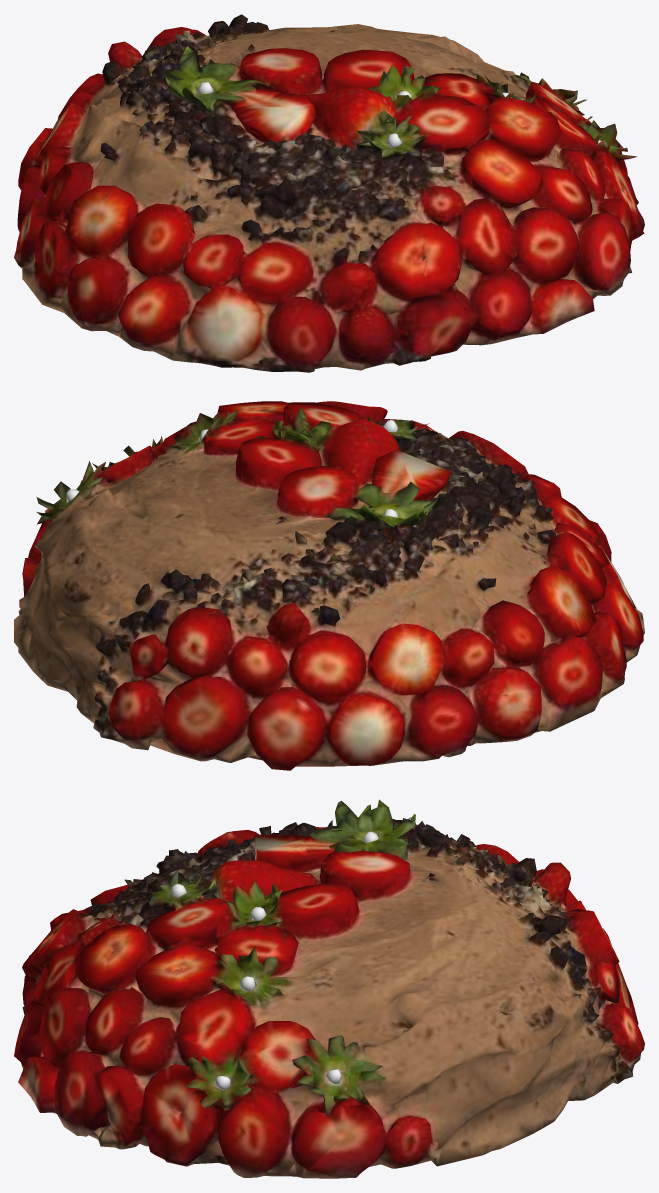
File: cake_display.glb
3 renders of one model, top to bottom at view 1: azimuth 30°, elevation 25°; view 2: azimuth 150°, elevation 25°; view 3: azimuth 270°, elevation 25°, orthographic. The views are drawn at different scales.
Parts seen in each view (by area): view 1: strawberry_chocolate_cake; view 2: strawberry_chocolate_cake; view 3: strawberry_chocolate_cake.
Part boxes in pixels (x1,y1,x2,y2): strawberry_chocolate_cake: (14,14,644,372); strawberry_chocolate_cake: (14,401,644,770); strawberry_chocolate_cake: (14,799,644,1178).
Size of the model in its own units: 0.2435 by 0.0792 by 0.2402.
1 material, 1 textured.
